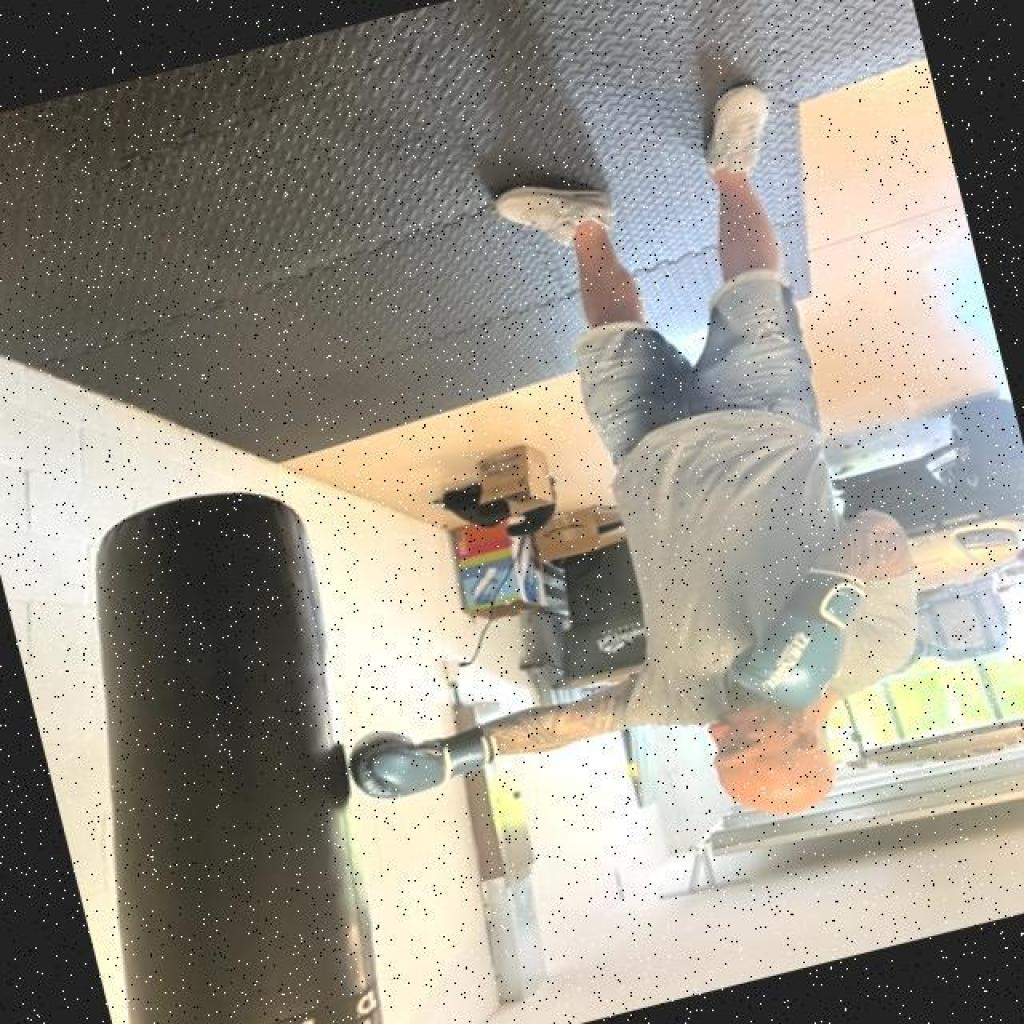jab: (275, 520, 968, 949)
